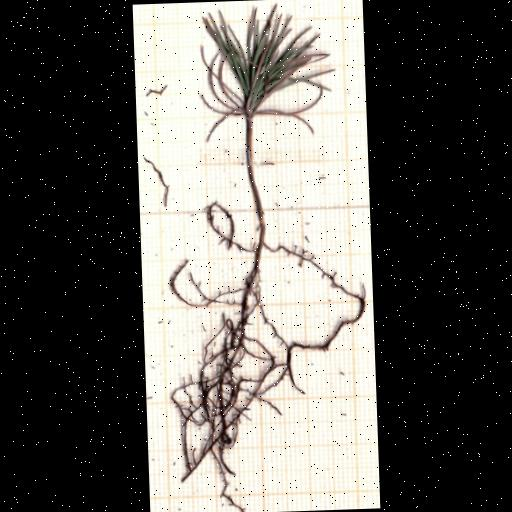flowerCedr: (198, 2, 334, 133)
rootCedr: (170, 202, 365, 506)
stemCedr: (244, 117, 264, 230)
